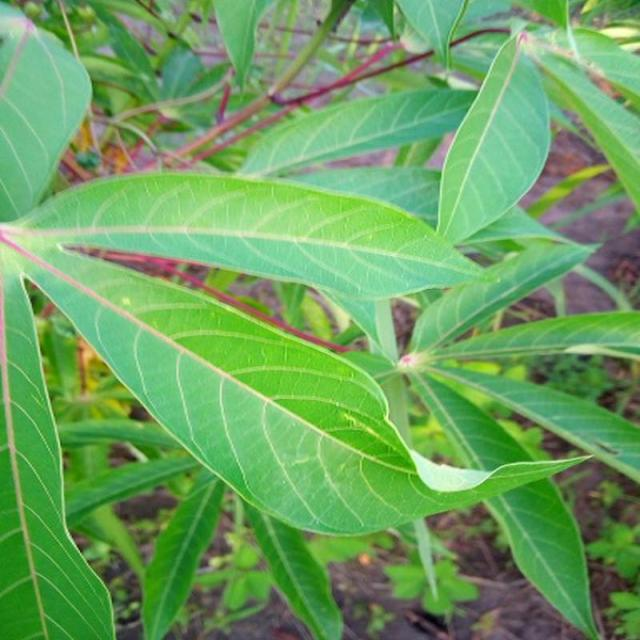cassava leaf: (1, 0, 637, 639), (436, 28, 551, 246), (0, 0, 93, 224)
